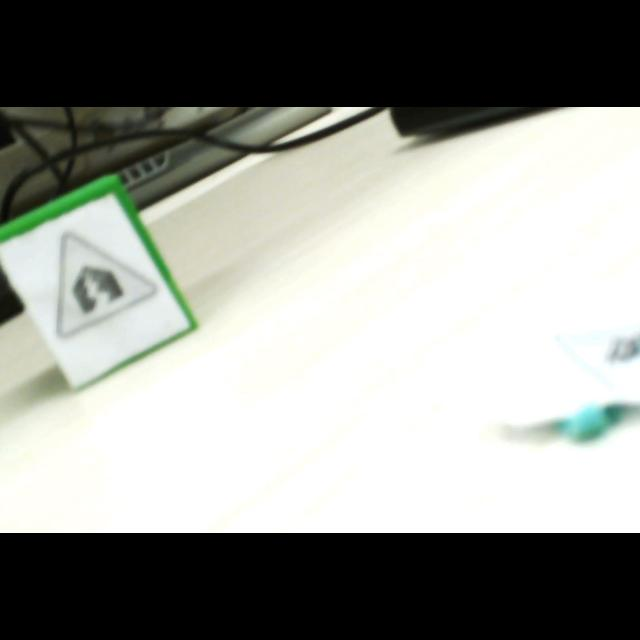Earthquake: (56, 232, 156, 338)
